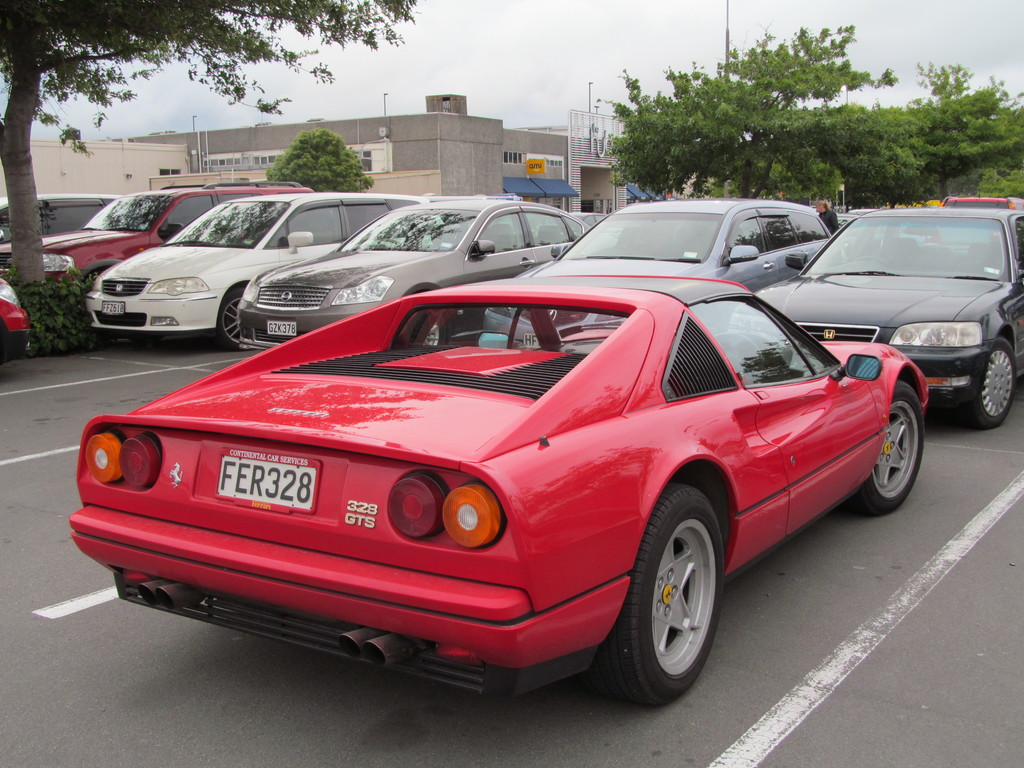Car: (0, 178, 1023, 706)
